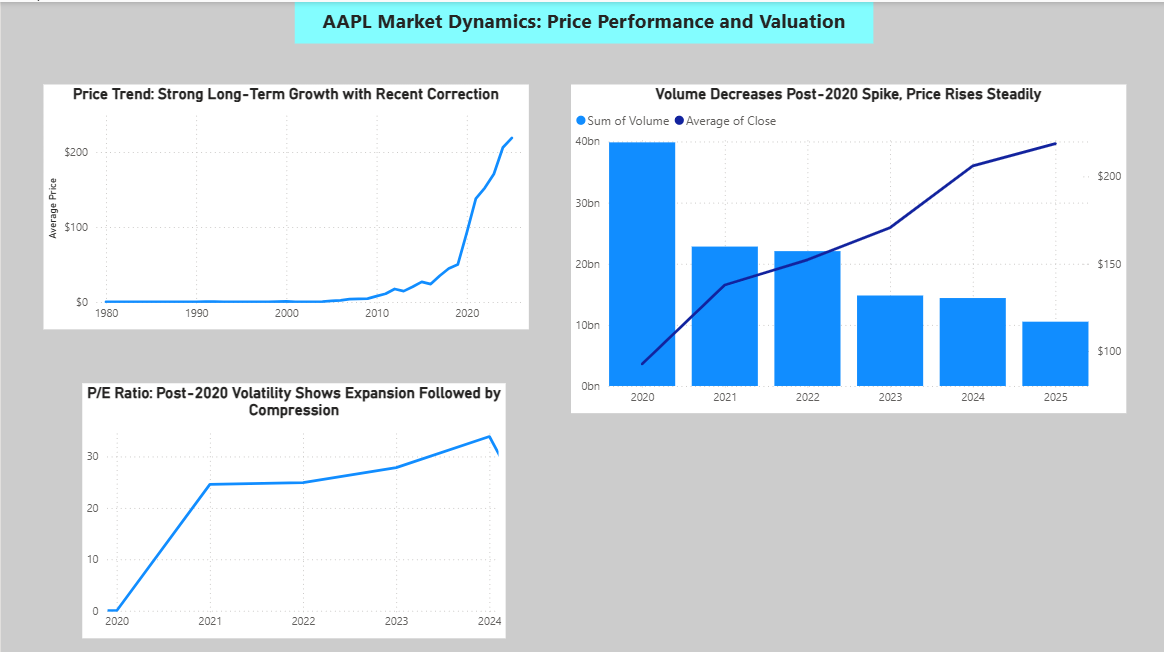

Layout of this report page (visuals, bound fields, positions):
{"tool":"powerbi","page":{"name":"Market Behavior & Valuation","canvas":[1280,720],"ordinal":1},"visuals":[{"type":"lineChart","title":"Price Trend: Strong Long-Term Growth with Recent Correction","fields":{"Category":["AAPL_Historical.Date.Variation.Date Hierarchy.Year","AAPL_Historical.Date.Variation.Date Hierarchy.Quarter","AAPL_Historical.Date.Variation.Date Hierarchy.Month","AAPL_Historical.Date.Variation.Date Hierarchy.Day"],"Y":["Avg(AAPL_Historical.Close)"]},"box":[46.7,90.6,532.4,269],"z":0},{"type":"lineClusteredColumnComboChart","title":"Volume Decreases Post-2020 Spike, Price Rises Steadily","fields":{"Y":["Sum(AAPL_Historical.Volume)"],"Y2":["Avg(AAPL_Historical.Close)"],"Category":["Dim_Date.Year"]},"box":[625.7,90.6,609.3,360.9],"z":1000},{"type":"lineChart","title":"P/E Ratio: Post-2020 Volatility Shows Expansion Followed by Compression","fields":{"Category":["Dim_Date.Year"],"Y":["AAPL_Historical.PE Ratio"]},"box":[89.2,418.5,465.2,279.9],"z":2000},{"type":"textbox","box":[322.3,0,635.3,45.3],"z":3000}]}

Visuals, with their boxes in screenshot pixels (x1, y1, x2, y2), scaled from the page's 1280x720 canvas onto the 1164x652 screenshot:
"Price Trend: Strong Long-Term Growth with Recent Correction" lineChart: 42:82:527:326
"Volume Decreases Post-2020 Spike, Price Rises Steadily" lineClusteredColumnComboChart: 569:82:1123:409
"P/E Ratio: Post-2020 Volatility Shows Expansion Followed by Compression" lineChart: 81:379:504:632
textbox: 293:0:871:41
